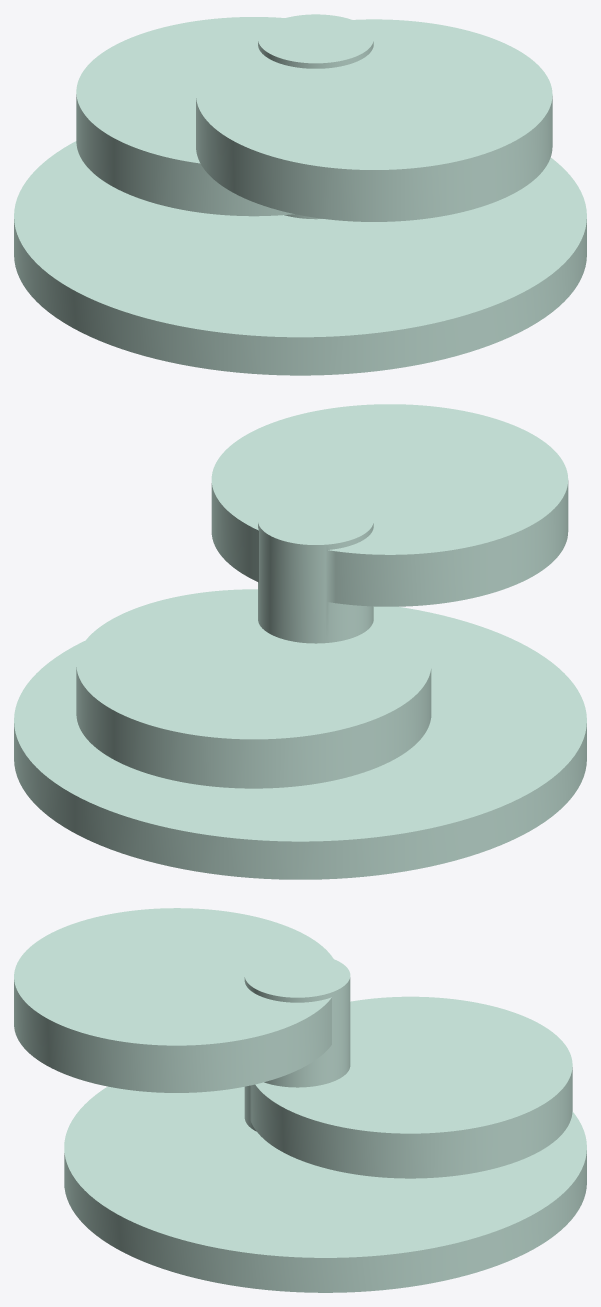
The picture shows the model from 3 angles, top to bottom: view 1: azimuth 30°, elevation 25°; view 2: azimuth 150°, elevation 25°; view 3: azimuth 270°, elevation 25°; orthographic projection. The views are drawn at different scales.
Visible parts, largest first — view 1: Renderer Node; view 2: Renderer Node; view 3: Renderer Node.
Boxes of the visible parts, <box> form: Renderer Node: <box>14,14,586,375</box>; Renderer Node: <box>14,404,586,879</box>; Renderer Node: <box>14,908,586,1292</box>.
Bounding box in the file's own units: 1.48 × 0.6484 × 1.63.
